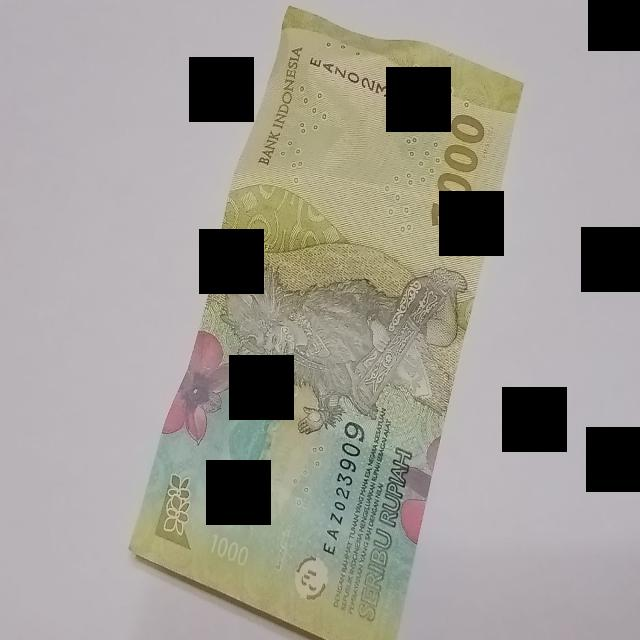seribu rupiah: (131, 8, 522, 638)
